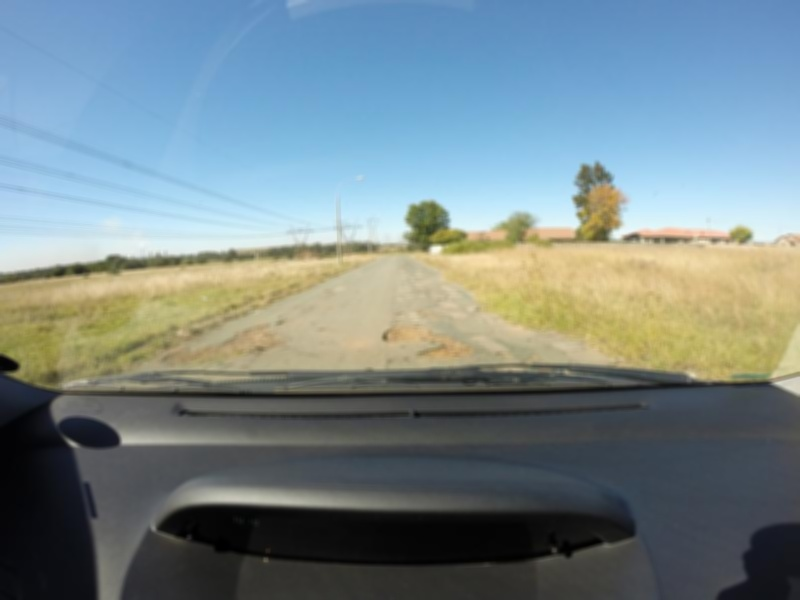pothole: (375, 314, 477, 357), (236, 319, 283, 350), (176, 345, 232, 361)
